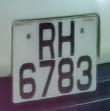3: (75, 54, 93, 95)
6: (17, 60, 38, 103)
7: (36, 57, 58, 100)
8: (56, 55, 76, 97)
H: (55, 15, 79, 62)
R: (33, 19, 60, 64)
